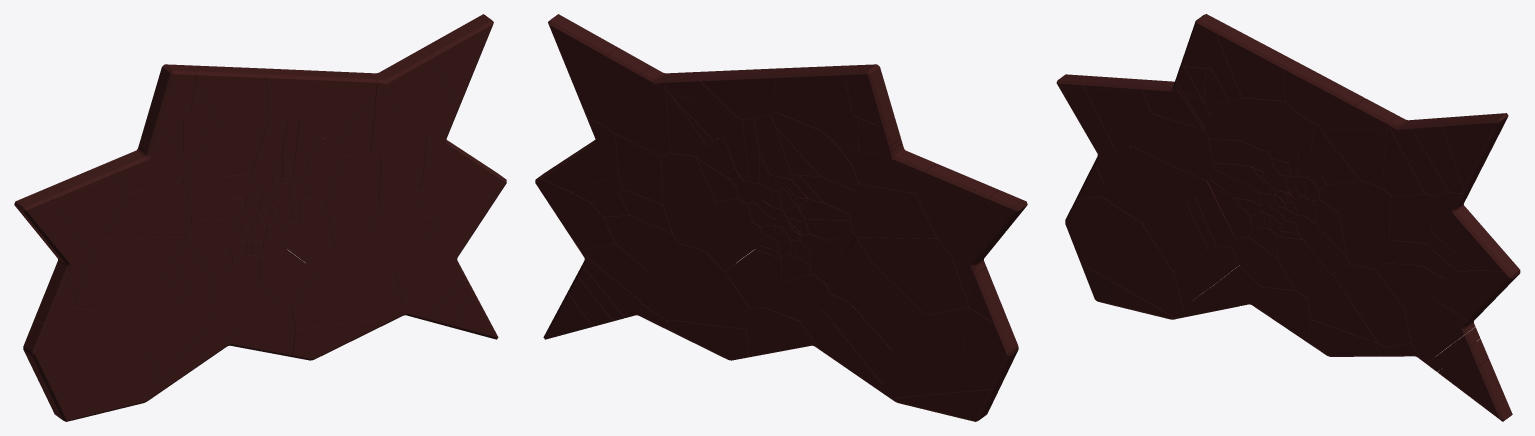
The model's file is mur Explosion.fbx.
3 renders of one model, left to right at view 1: azimuth 30°, elevation 25°; view 2: azimuth 150°, elevation 25°; view 3: azimuth 330°, elevation 25°, orthographic. The views are drawn at different scales.
Parts seen in each view (by area): view 1: Piece.001_cell.024, Piece.001_cell.023, Piece.001_cell.002, Piece.001_cell.064, Piece.001_cell.066, Piece.001_cell.026, Piece.001_cell.027, Piece.001_cell.057, Piece.001_cell.080, Piece.001_cell.037, Piece.001_cell.031, Piece.001_cell.078 (+47 smaller); view 2: Piece.001_cell.024, Piece.001_cell.023, Piece.001_cell.002, Piece.001_cell.064, Piece.001_cell.066, Piece.001_cell.026, Piece.001_cell.027, Piece.001_cell.057, Piece.001_cell.080, Piece.001_cell.037, Piece.001_cell.031, Piece.001_cell.078 (+46 smaller); view 3: Piece.001_cell.024, Piece.001_cell.023, Piece.001_cell.002, Piece.001_cell.078, Piece.001_cell.066, Piece.001_cell.027, Piece.001_cell.064, Piece.001_cell.026, Piece.001_cell.080, Piece.001_cell.057, Piece.001_cell.089, Piece.001_cell.031 (+47 smaller).
Part boxes in pixels (left/top/right/bottom): Piece.001_cell.024: left=23, top=307, right=160, bottom=397; Piece.001_cell.023: left=73, top=237, right=184, bottom=314; Piece.001_cell.002: left=325, top=153, right=380, bottom=250; Piece.001_cell.064: left=42, top=163, right=125, bottom=253; Piece.001_cell.066: left=319, top=243, right=401, bottom=320; Piece.001_cell.026: left=104, top=184, right=191, bottom=238; Piece.001_cell.027: left=186, top=65, right=268, bottom=129; Piece.001_cell.057: left=424, top=14, right=493, bottom=110; Piece.001_cell.080: left=256, top=68, right=342, bottom=118; Piece.001_cell.037: left=19, top=190, right=90, bottom=294; Piece.001_cell.031: left=116, top=269, right=186, bottom=349; Piece.001_cell.078: left=423, top=117, right=501, bottom=192; Piece.001_cell.024: left=881, top=307, right=1018, bottom=397; Piece.001_cell.023: left=857, top=237, right=968, bottom=314; Piece.001_cell.002: left=661, top=153, right=716, bottom=250; Piece.001_cell.064: left=916, top=163, right=999, bottom=253; Piece.001_cell.066: left=640, top=243, right=722, bottom=320; Piece.001_cell.026: left=850, top=184, right=937, bottom=238; Piece.001_cell.027: left=773, top=65, right=855, bottom=129; Piece.001_cell.057: left=548, top=14, right=617, bottom=110; Piece.001_cell.080: left=699, top=68, right=785, bottom=118; Piece.001_cell.037: left=951, top=190, right=1022, bottom=294; Piece.001_cell.031: left=855, top=269, right=925, bottom=349; Piece.001_cell.078: left=540, top=118, right=618, bottom=192; Piece.001_cell.024: left=1065, top=196, right=1187, bottom=318; Piece.001_cell.023: left=1101, top=146, right=1207, bottom=222; Piece.001_cell.002: left=1339, top=179, right=1390, bottom=268; Piece.001_cell.078: left=1431, top=187, right=1514, bottom=270; Piece.001_cell.066: left=1333, top=264, right=1410, bottom=347; Piece.001_cell.027: left=1217, top=24, right=1291, bottom=100; Piece.001_cell.064: left=1083, top=76, right=1151, bottom=154; Piece.001_cell.026: left=1131, top=113, right=1213, bottom=181; Piece.001_cell.080: left=1283, top=59, right=1365, bottom=124; Piece.001_cell.057: left=1442, top=113, right=1508, bottom=188; Piece.001_cell.089: left=1434, top=264, right=1520, bottom=321; Piece.001_cell.031: left=1142, top=200, right=1207, bottom=271.
Bounding box in the file's own units: 324 × 223 × 13.37.
